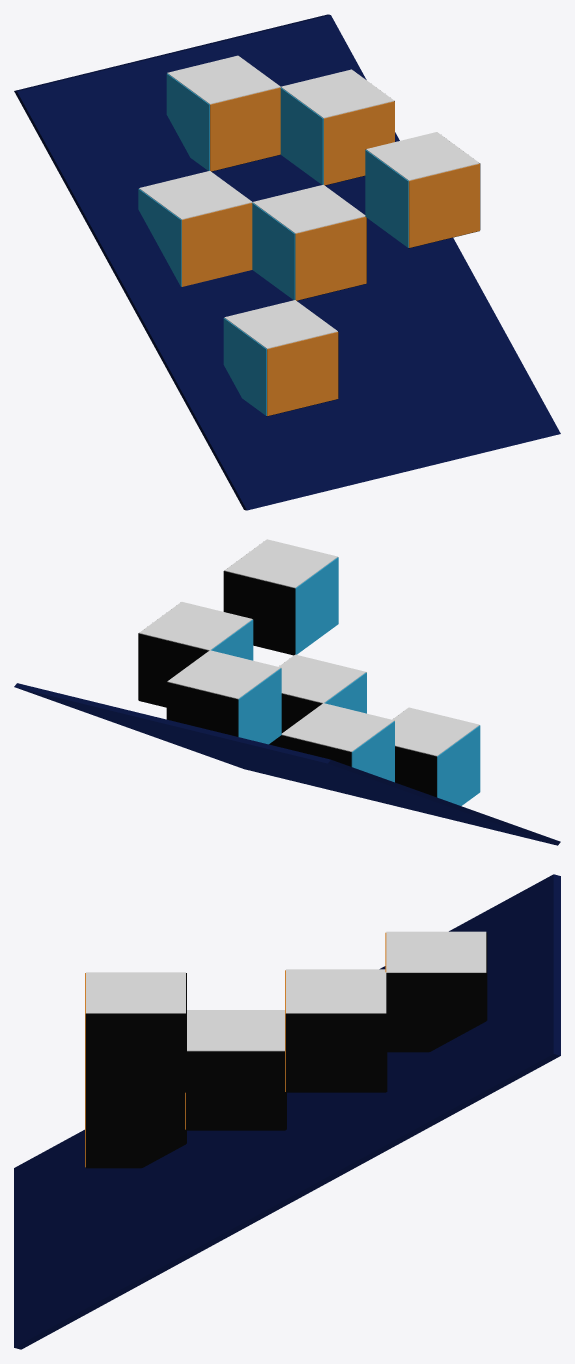
Rendered from yuxtaposición.fbx.
3 views of the same model, one above another, from view 1: azimuth 30°, elevation 25°; view 2: azimuth 150°, elevation 25°; view 3: azimuth 270°, elevation 25° (orthographic). The views are drawn at different scales.
Visible parts, largest first — view 1: Cube.014; view 2: Cube.014; view 3: Cube.014.
Part boxes in pixels (x1,y1,x2,y2): Cube.014: (14,14,560,510); Cube.014: (14,539,560,845); Cube.014: (14,874,560,1349).
Bounding box in the file's own units: 317 × 253 × 408.
